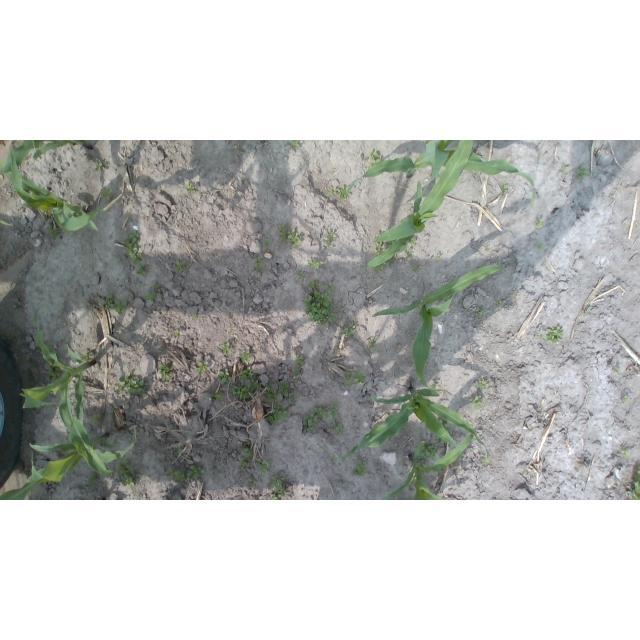Maize: (22, 309, 113, 480), (1, 432, 120, 500), (1, 161, 102, 234), (0, 141, 96, 176)
Weeds: (302, 290, 336, 328), (121, 230, 145, 265), (303, 407, 332, 434), (115, 373, 145, 396), (115, 458, 137, 488), (265, 402, 290, 424), (625, 466, 640, 500), (104, 294, 129, 314), (278, 381, 299, 403), (540, 326, 565, 344), (228, 384, 253, 400), (269, 476, 285, 501), (437, 419, 451, 444), (165, 468, 187, 483), (364, 149, 381, 168), (144, 283, 161, 302), (258, 457, 275, 475), (46, 222, 63, 240), (264, 385, 281, 402), (46, 363, 62, 381), (323, 230, 336, 251), (419, 445, 438, 459), (287, 228, 301, 247), (352, 459, 368, 475), (293, 355, 304, 377), (240, 366, 255, 382), (338, 186, 352, 203), (136, 263, 153, 277), (102, 187, 117, 202), (331, 418, 344, 435), (469, 395, 484, 409), (353, 372, 367, 387), (187, 465, 202, 479), (576, 165, 590, 180), (158, 365, 171, 381), (374, 234, 383, 257), (218, 369, 231, 384), (253, 256, 265, 272), (476, 377, 489, 391), (278, 224, 287, 243), (205, 392, 224, 401), (307, 259, 324, 269), (344, 323, 356, 337), (239, 349, 251, 363), (173, 260, 185, 273), (94, 160, 108, 171), (330, 403, 340, 418), (344, 370, 353, 386), (196, 361, 208, 373), (185, 182, 196, 195), (325, 282, 336, 294), (240, 447, 252, 458), (221, 342, 232, 354), (287, 140, 300, 150), (368, 335, 377, 349), (620, 449, 632, 459), (87, 474, 99, 484), (499, 182, 509, 193), (309, 279, 320, 289), (262, 237, 272, 248), (89, 413, 100, 423), (81, 351, 91, 362), (374, 263, 386, 272), (331, 346, 343, 355), (328, 186, 338, 196), (479, 453, 489, 463), (560, 164, 570, 174), (296, 270, 307, 279), (248, 476, 257, 487), (410, 264, 422, 272), (476, 307, 485, 317), (405, 248, 414, 258), (535, 219, 544, 228), (621, 396, 631, 404), (417, 460, 427, 468), (252, 379, 260, 389), (239, 458, 247, 468), (614, 366, 623, 374), (384, 241, 394, 248), (535, 242, 543, 250), (496, 300, 504, 308), (581, 310, 590, 317), (431, 381, 438, 390), (410, 237, 417, 245), (227, 327, 235, 334), (173, 328, 180, 336), (386, 258, 395, 264), (177, 447, 184, 454), (13, 305, 20, 312), (44, 210, 52, 216), (485, 245, 491, 251), (66, 231, 73, 236), (330, 168, 335, 174), (437, 254, 442, 260), (192, 316, 197, 321)
